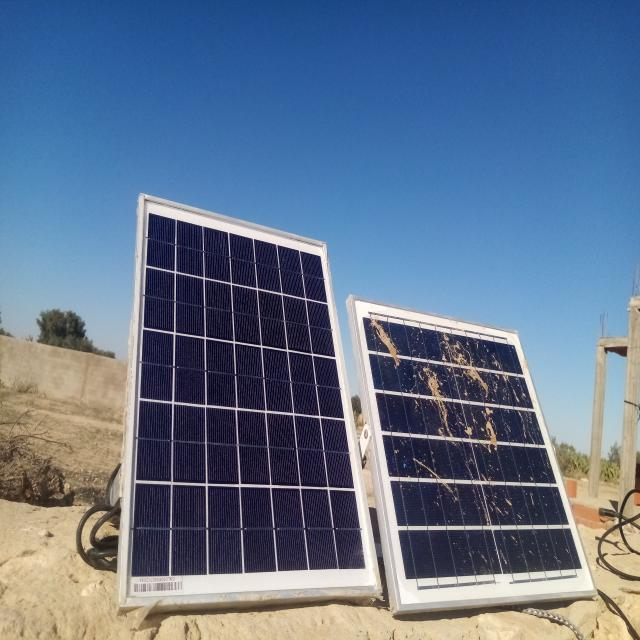faulty: (349, 297, 597, 606)
no faulty: (119, 194, 381, 605)
